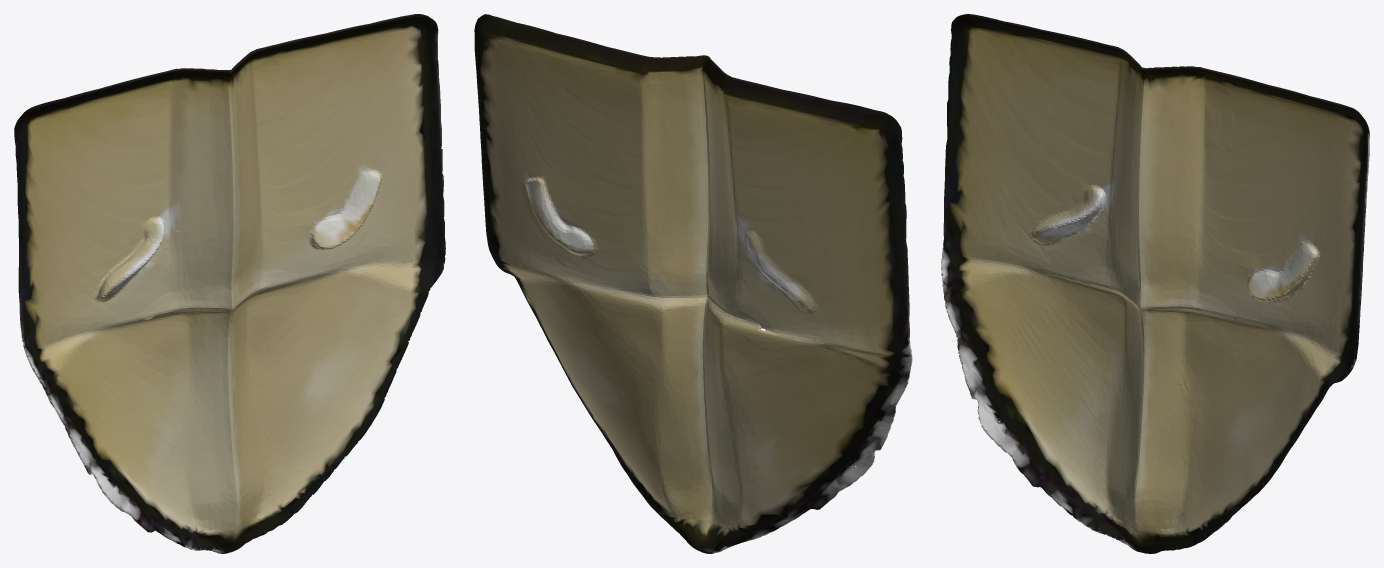
Rendered from b_shield.glb.
3 views of the same model, side by side, from view 1: azimuth 30°, elevation 25°; view 2: azimuth 150°, elevation 25°; view 3: azimuth 330°, elevation 25° (orthographic). The views are drawn at different scales.
Visible parts, largest first — view 1: geometry_0; view 2: geometry_0; view 3: geometry_0.
Boxes of the visible parts, left/top/right/bottom form: geometry_0: left=14, top=14, right=445, bottom=553; geometry_0: left=474, top=14, right=912, bottom=553; geometry_0: left=941, top=14, right=1369, bottom=553.
Size of the model in its own units: 0.6562 by 0.7208 by 0.1049.
